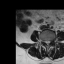CCS_normal: (46, 39, 48, 47)
LFS_severe_stenosis: (50, 38, 53, 44)
LLS_stenosis: (48, 39, 50, 45)
RFS_stenosis: (42, 38, 44, 44)
RLS_normal: (44, 38, 46, 45)
